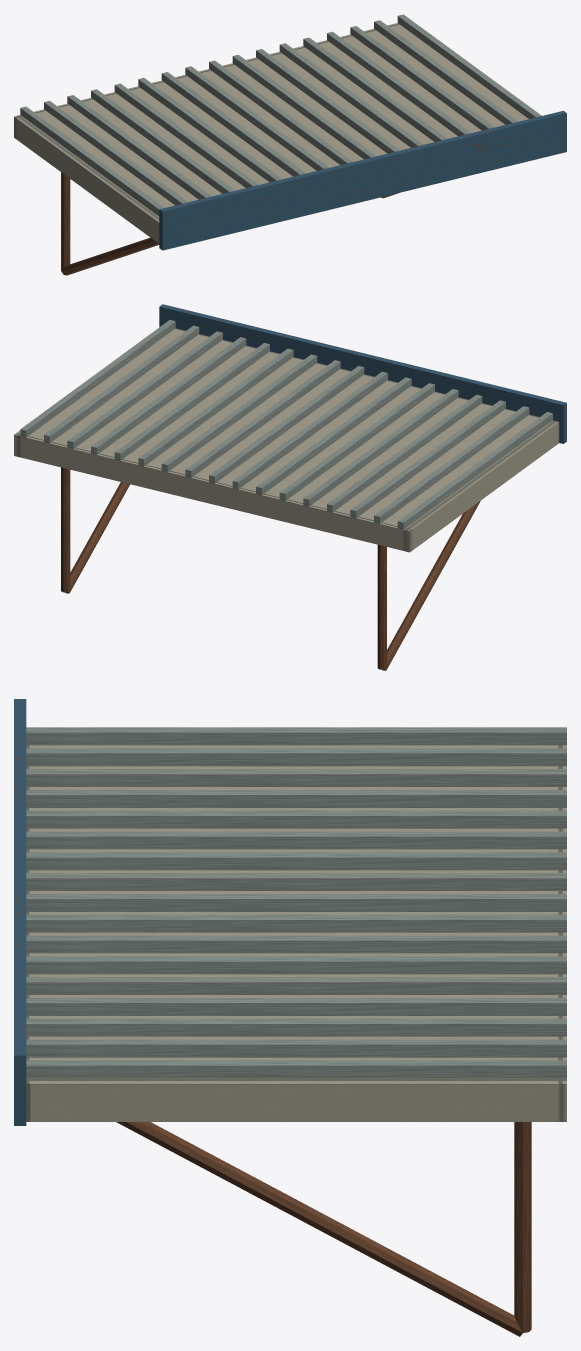
File: CIS_EntranceCanopy.glb
The picture shows the model from 3 angles, top to bottom: view 1: azimuth 30°, elevation 25°; view 2: azimuth 150°, elevation 25°; view 3: azimuth 270°, elevation 25°; orthographic projection. The views are drawn at different scales.
Visible parts, largest first — view 1: CIS_EntranceCanopy; view 2: CIS_EntranceCanopy; view 3: CIS_EntranceCanopy.
Boxes of the visible parts, left/top/right/bottom form: CIS_EntranceCanopy: left=14, top=14, right=566, bottom=275; CIS_EntranceCanopy: left=14, top=304, right=566, bottom=670; CIS_EntranceCanopy: left=14, top=699, right=566, bottom=1336.
Size of the model in its own units: 2.4 by 1 by 1.57.
4 materials, 4 textured.
